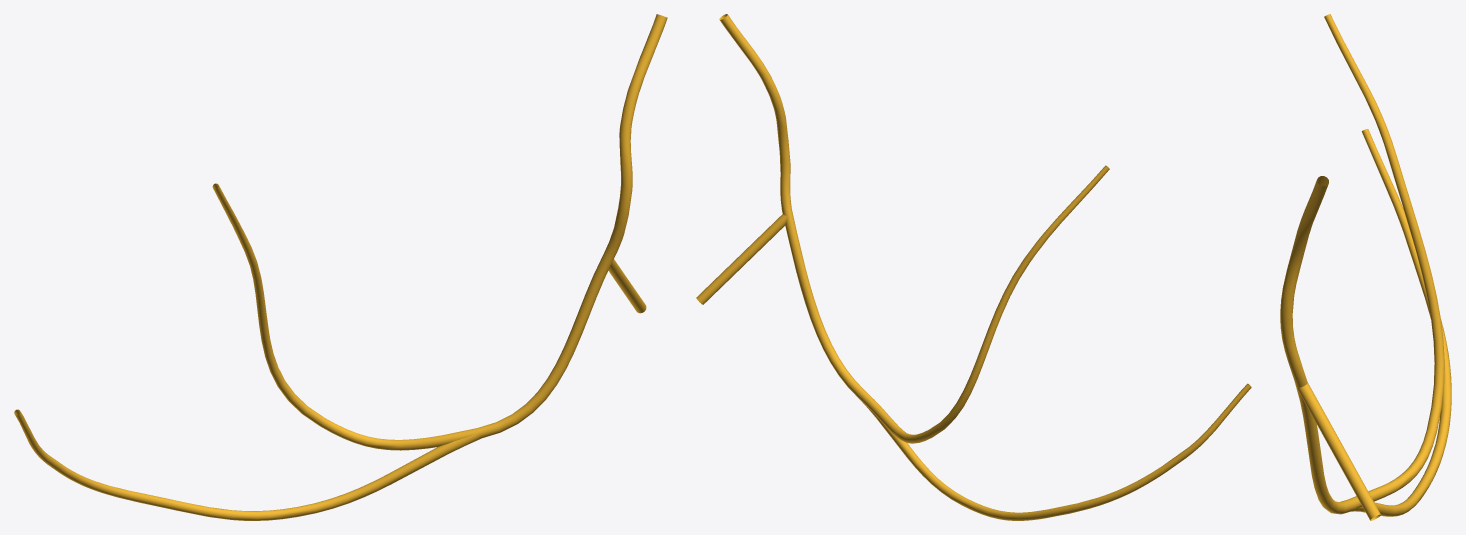
File: nervoso-superior-gluteal-nerve-r.glb
3 views of the same model, side by side, from view 1: azimuth 30°, elevation 25°; view 2: azimuth 150°, elevation 25°; view 3: azimuth 270°, elevation 25° (orthographic). The views are drawn at different scales.
Visible parts, largest first — view 1: Superior gluteal nerve.r; view 2: Superior gluteal nerve.r; view 3: Superior gluteal nerve.r.
Part boxes in pixels (x1,y1,x2,y2): Superior gluteal nerve.r: (14, 14, 667, 520); Superior gluteal nerve.r: (696, 14, 1251, 520); Superior gluteal nerve.r: (1280, 14, 1451, 520).
Size of the model in its own units: 0.0884 by 0.0608 by 0.0192.
